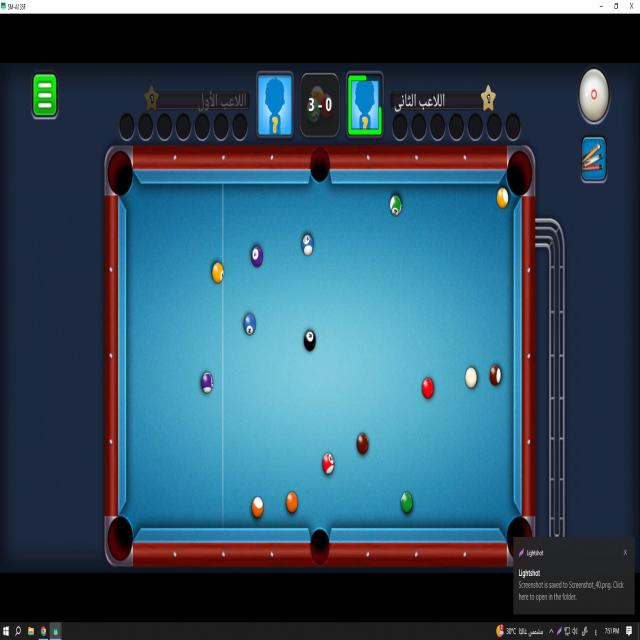object_ball: (202, 372, 214, 394), (322, 452, 334, 474), (400, 492, 412, 514), (496, 187, 508, 209), (422, 378, 434, 398), (212, 262, 223, 283), (252, 246, 263, 267), (357, 433, 368, 454), (244, 314, 255, 335), (286, 492, 297, 513), (390, 195, 401, 216), (302, 235, 313, 255), (304, 331, 315, 351), (490, 365, 501, 385), (252, 497, 263, 517)
white_cue_ball: (465, 367, 477, 388)
